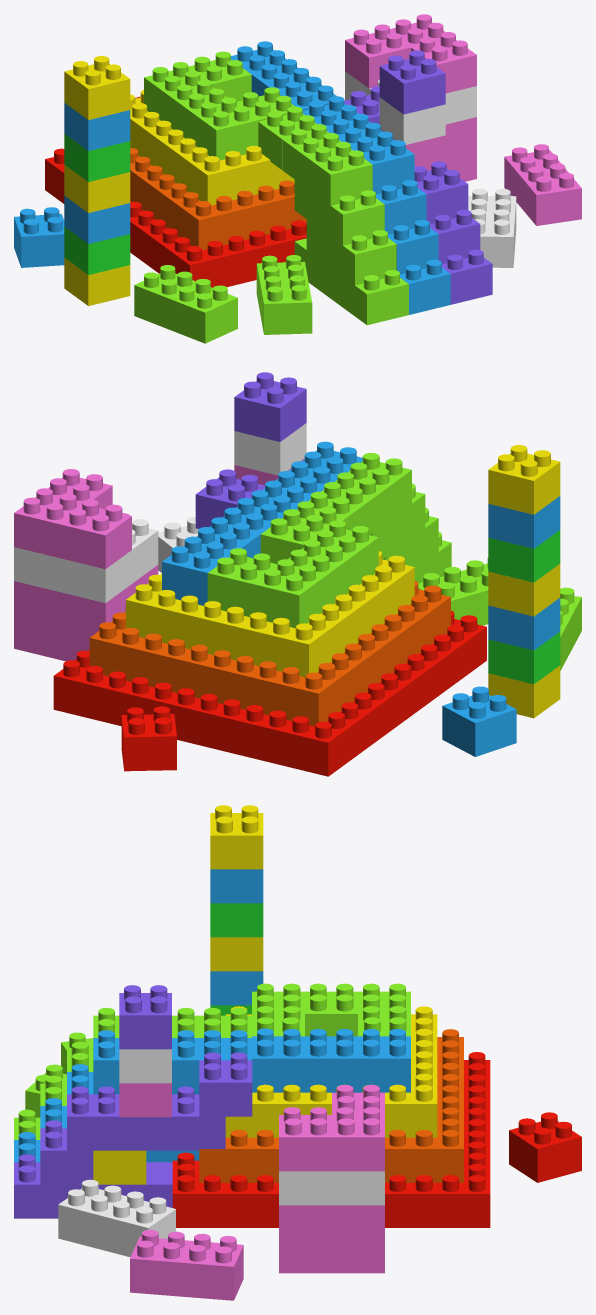
Rendered from Cake_ThemeToys_E.FBX.
The picture shows the model from 3 angles, top to bottom: view 1: azimuth 30°, elevation 25°; view 2: azimuth 150°, elevation 25°; view 3: azimuth 270°, elevation 25°; orthographic projection. The views are drawn at different scales.
Parts seen in each view (by area): view 1: Cake_ThemeToys_E; view 2: Cake_ThemeToys_E; view 3: Cake_ThemeToys_E.
Boxes of the visible parts, x1,y1,x2,y2 form: Cake_ThemeToys_E: (14,14,581,343); Cake_ThemeToys_E: (14,372,581,776); Cake_ThemeToys_E: (14,805,581,1300).
Size of the model in its own units: 105546 by 46952 by 97580.
